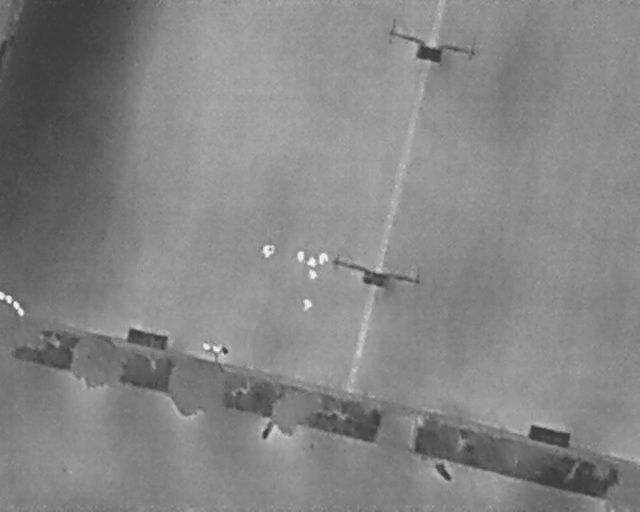Person: (262, 244, 274, 259), (302, 299, 313, 312), (319, 252, 328, 265), (307, 256, 317, 267), (308, 269, 317, 280), (297, 250, 304, 263)
